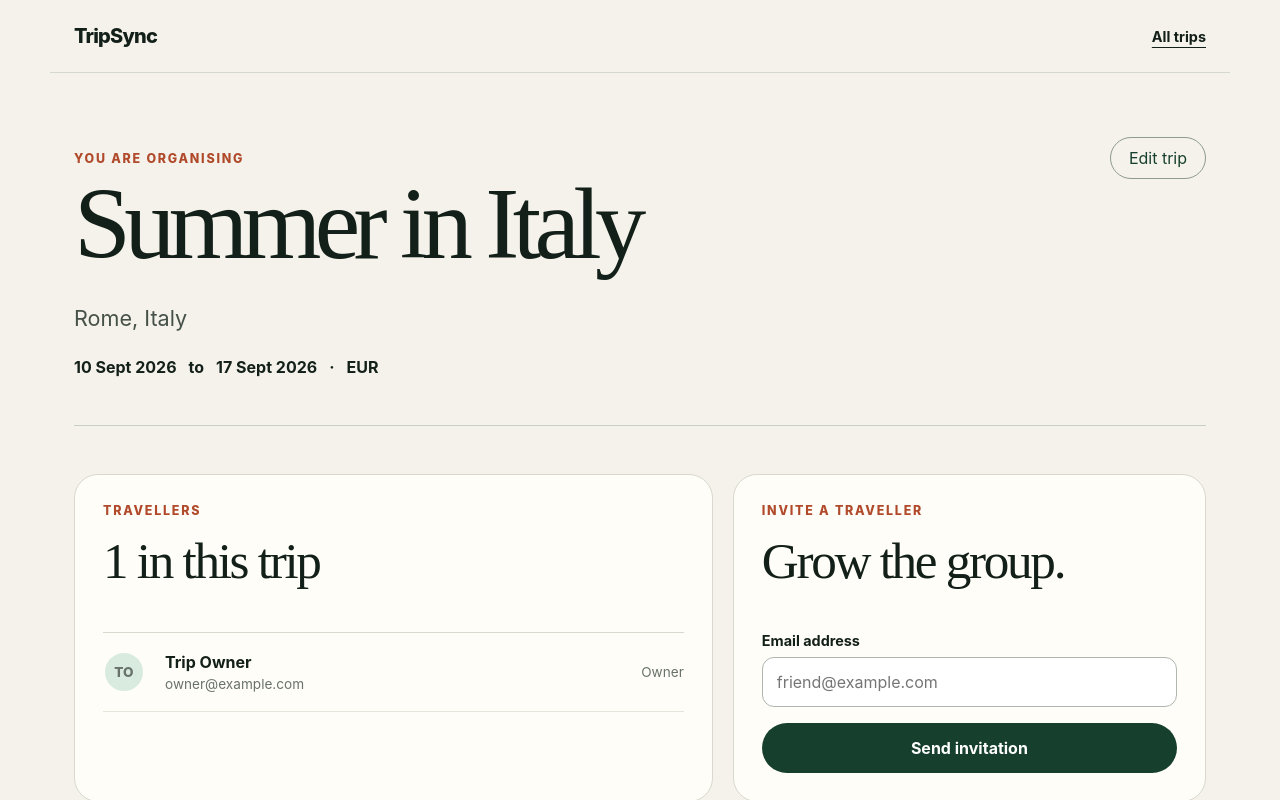
Scenario: invitation frontend flow › lets the owner create a secure invitation
Step 1. Type "traveller@example.com" into the field labelled "Email address" → (969, 682), box left=762, top=657, right=1177, bottom=707
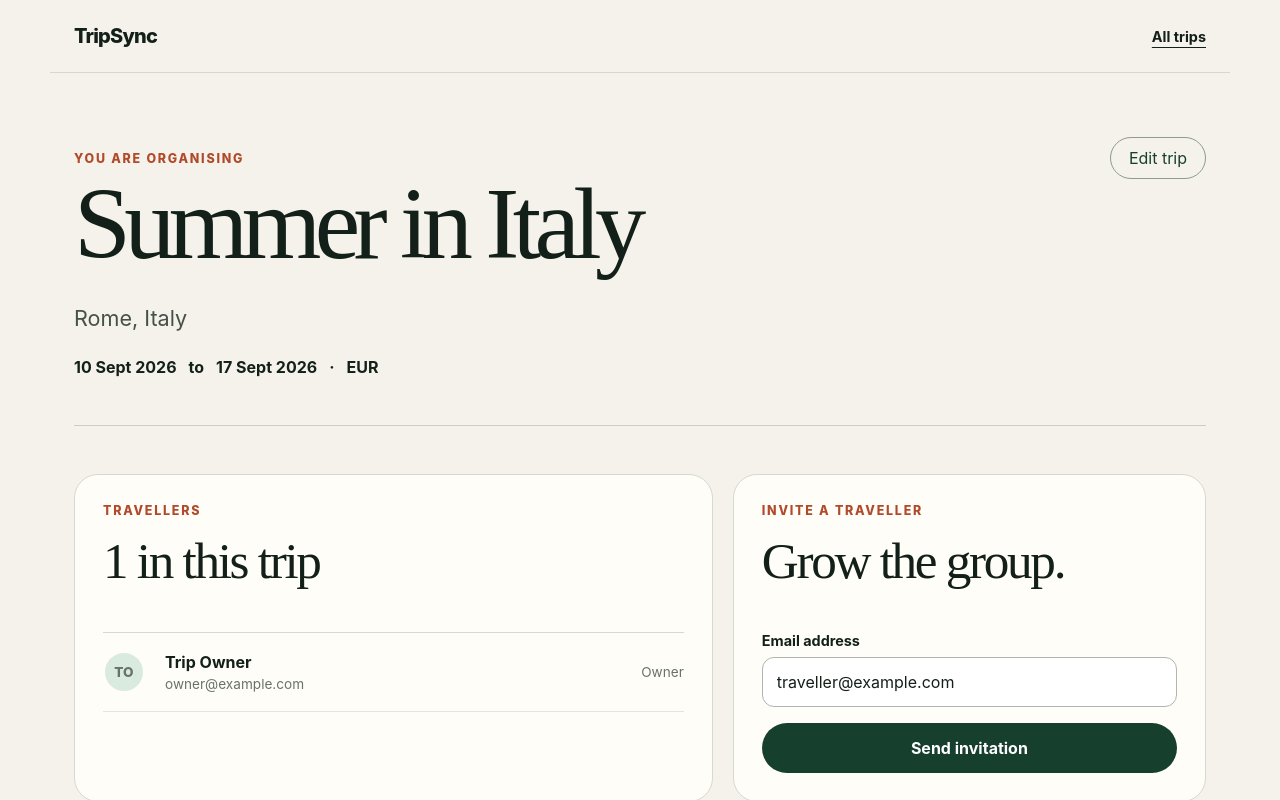
Step 2. Click the button "Send invitation" → (969, 748), box left=762, top=723, right=1177, bottom=773
(page scrolled)
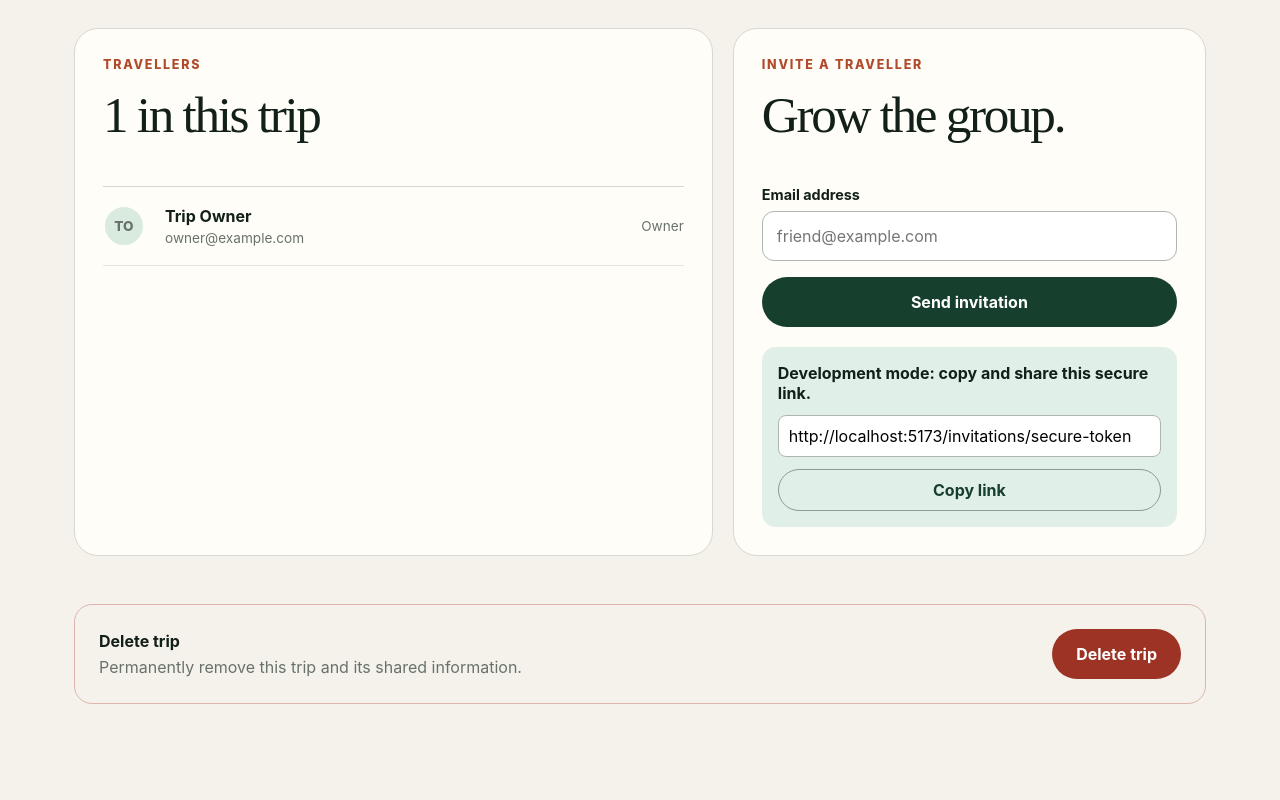
Check: the field showing "secure-token" is shown, box left=778, top=415, right=1161, bottom=457
